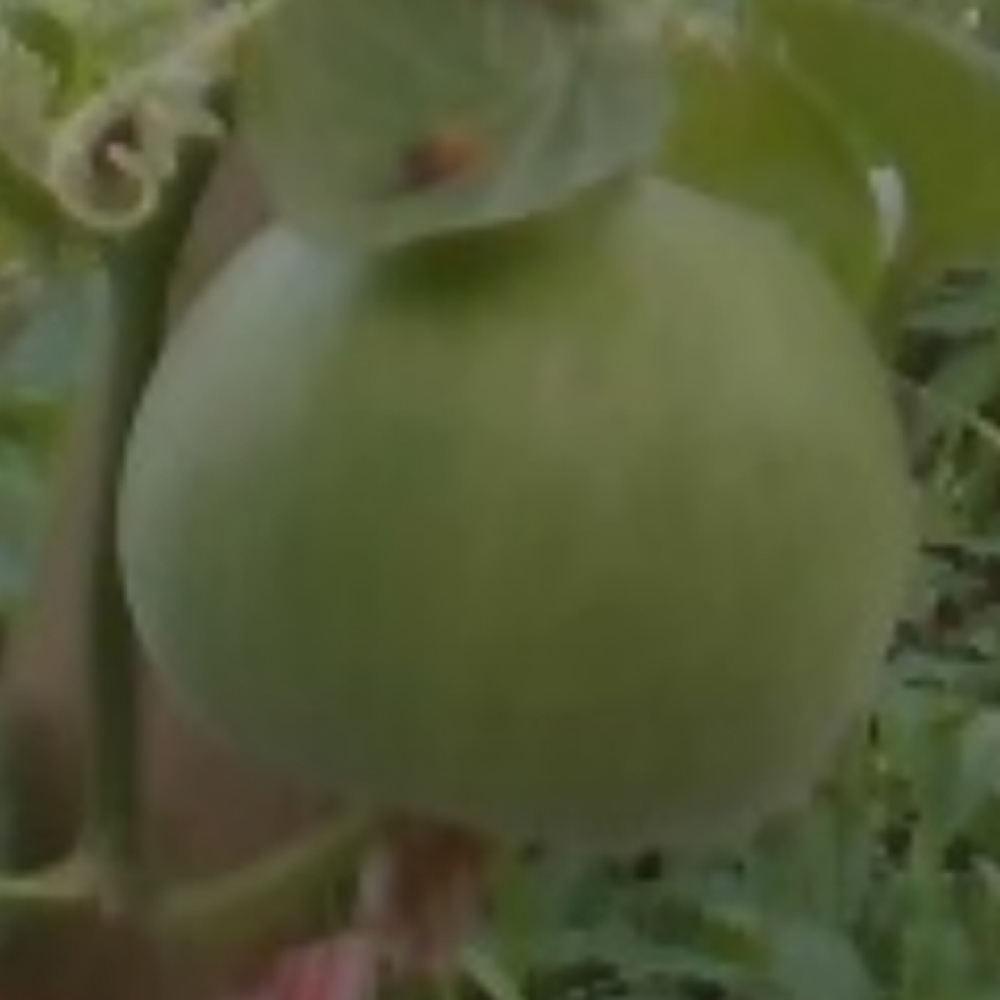melon: (107, 169, 921, 863)
